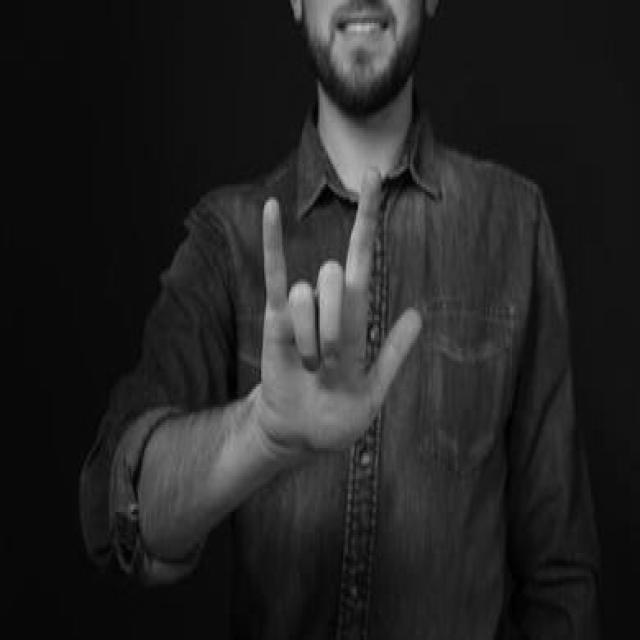i love you: (252, 155, 426, 471)
